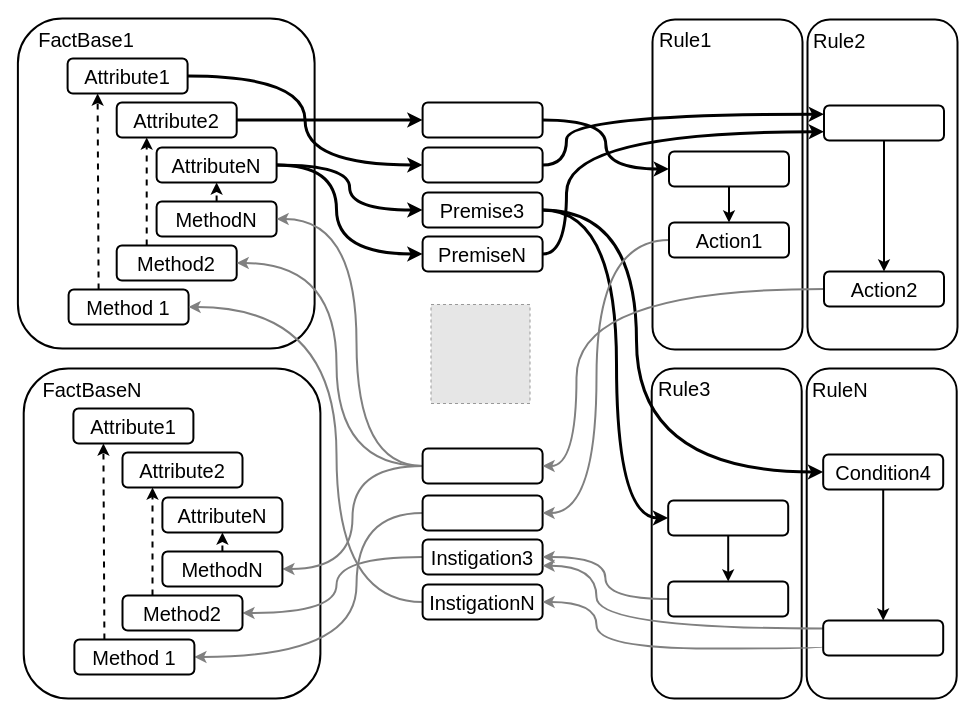
This 976x716 diagram has some shape labels left out. Grey dashed boxes stand in for pictures. The centre of each missing label's shape, as x and y in pixels:
Action3: point 728,598
Action4: point 883,637
Condition1: point 729,168
Condition2: point 883,122
Condition3: point 728,517
Instigation1: point 482,465
Instigation2: point 482,512
Premise1: point 482,119
Premise2: point 482,164
